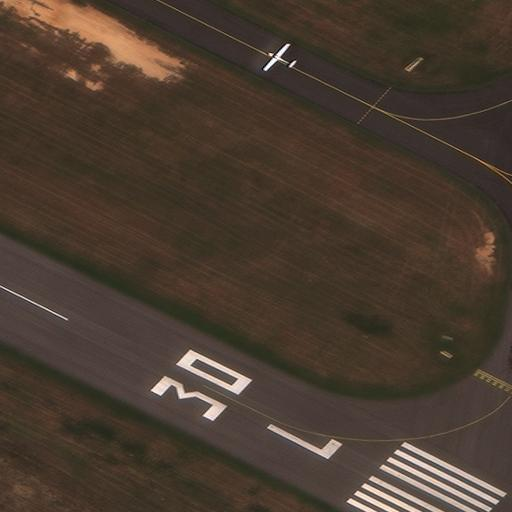Small Civil Transport: (262, 42, 294, 68)
